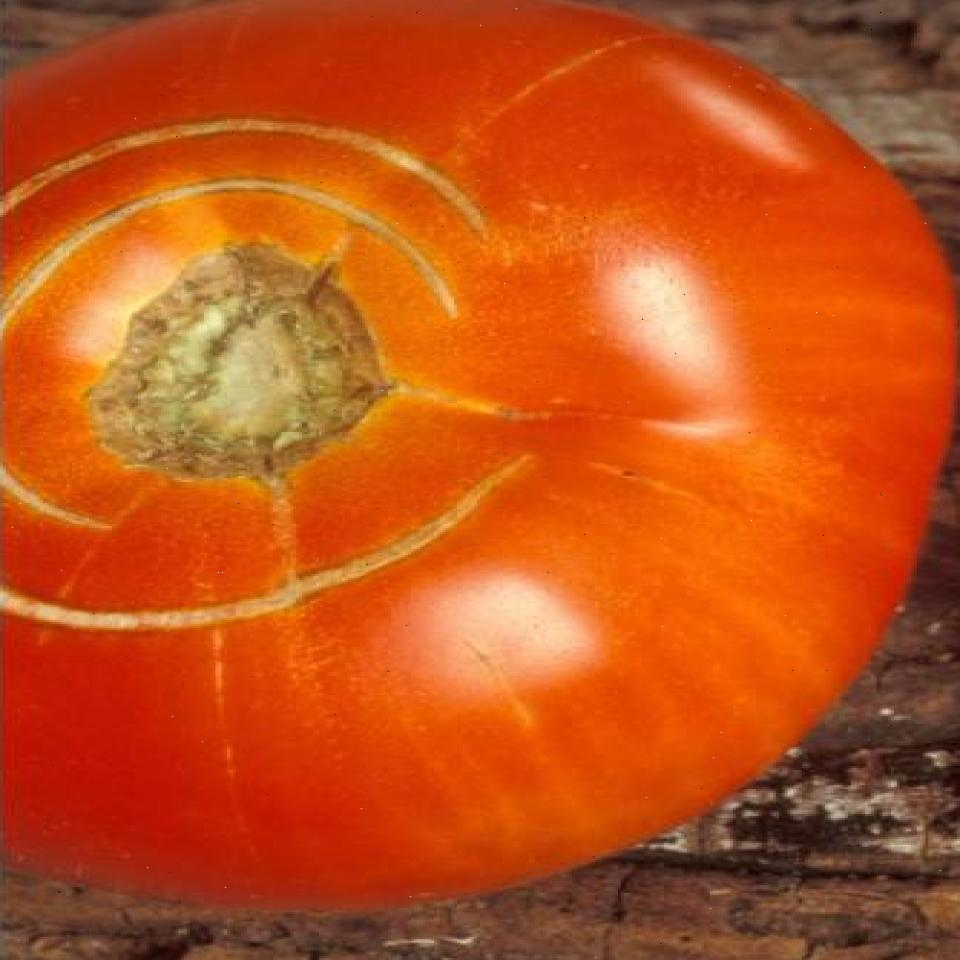Cracking: (0, 436, 552, 642), (0, 171, 500, 363), (0, 106, 529, 232), (0, 401, 149, 537)
